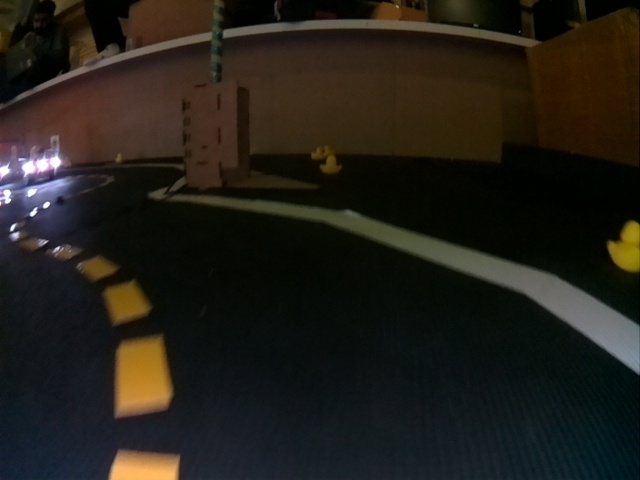Duckie: (606, 221, 637, 271), (321, 156, 340, 174), (311, 147, 324, 159), (324, 147, 335, 156), (115, 154, 121, 163)
Duckiebot: (22, 154, 57, 182)
